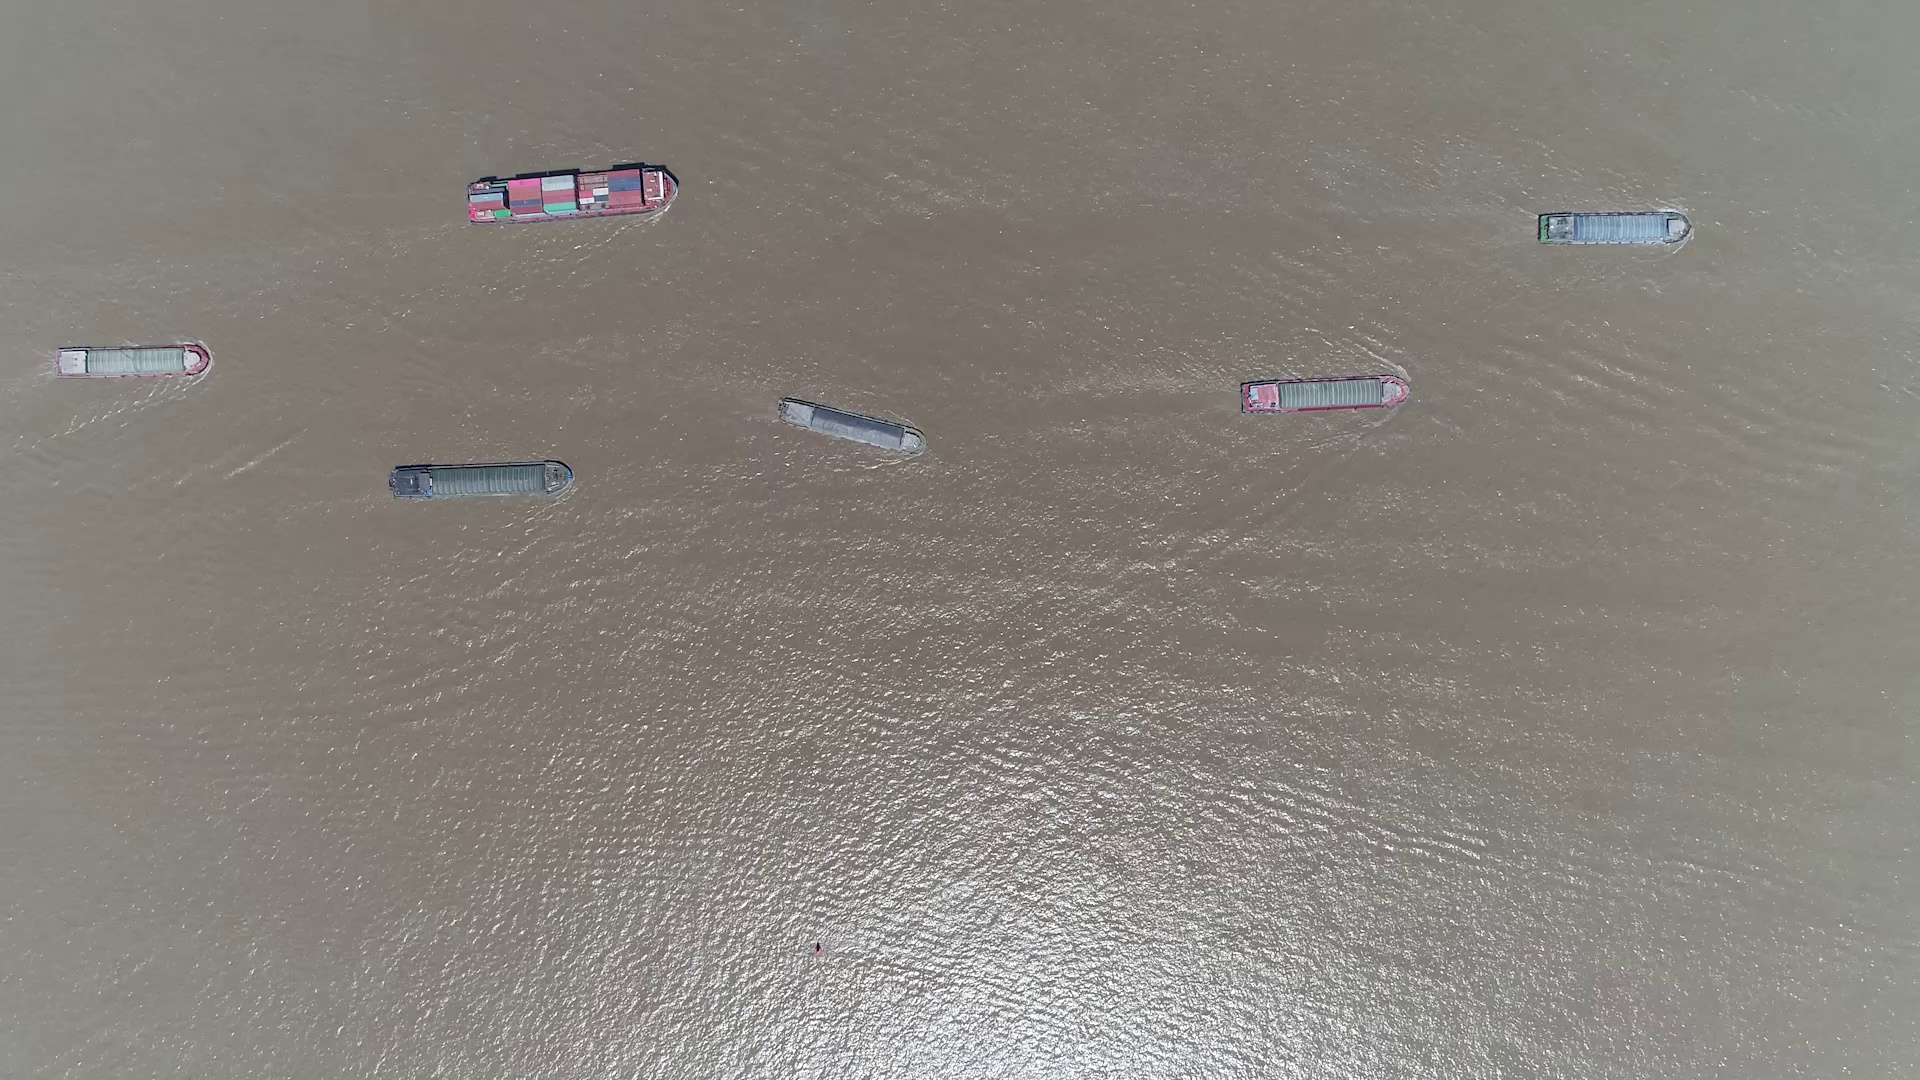ship: (465, 166, 678, 223), (777, 396, 926, 454), (388, 462, 574, 500), (1240, 375, 1411, 414), (51, 344, 207, 377), (1539, 212, 1688, 244)
